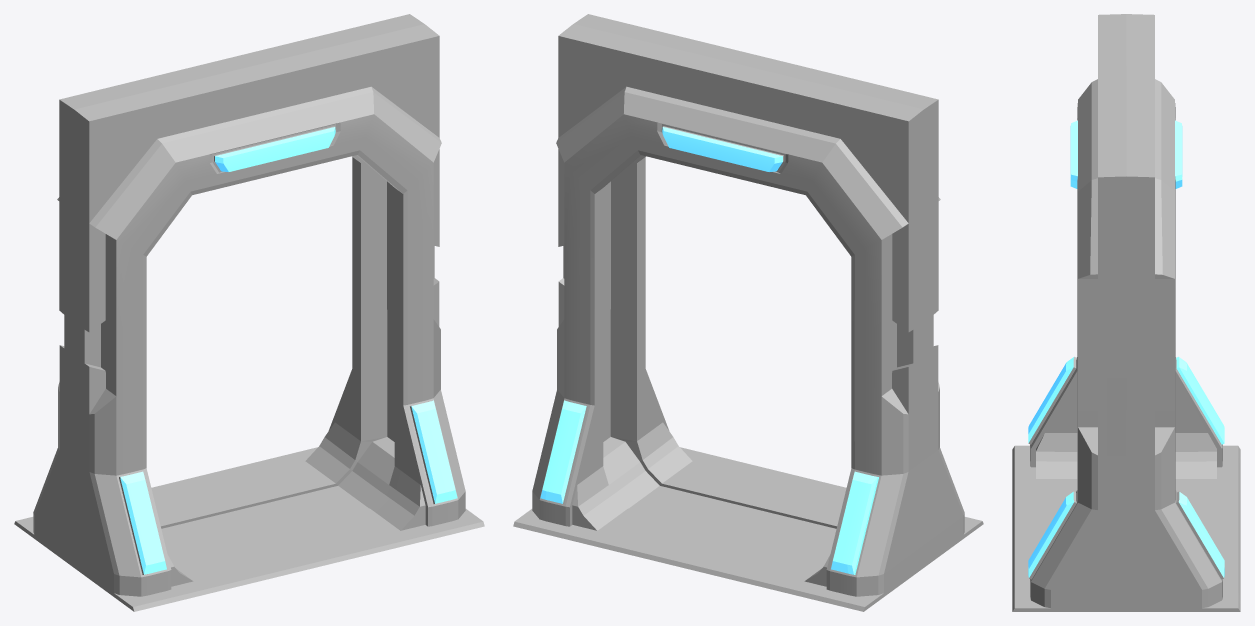
The model's file is T2_DoorFrame.fbx.
3 views of the same model, side by side, from view 1: azimuth 30°, elevation 25°; view 2: azimuth 150°, elevation 25°; view 3: azimuth 270°, elevation 25° (orthographic). The views are drawn at different scales.
Parts seen in each view (by area): view 1: T2_DoorFrame; view 2: T2_DoorFrame; view 3: T2_DoorFrame.
Part boxes in pixels (<box>): T2_DoorFrame: <box>14,14,484,611</box>; T2_DoorFrame: <box>513,14,983,611</box>; T2_DoorFrame: <box>1012,14,1240,611</box>.
Bounding box in the file's own units: 200 × 250 × 119.
